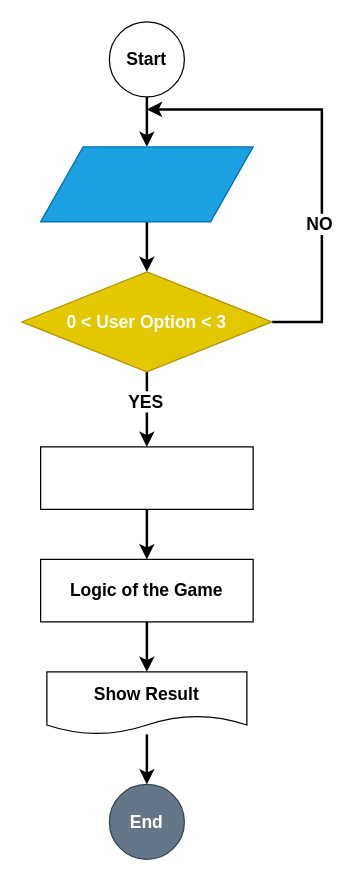
Image size: 355x881. Some labels were removed from this diagram. Here are the shapes that lost their labels. From the top down, the box of each, then its label:
(39, 146, 253, 222): User Option
(39, 446, 253, 509): Computer Option
